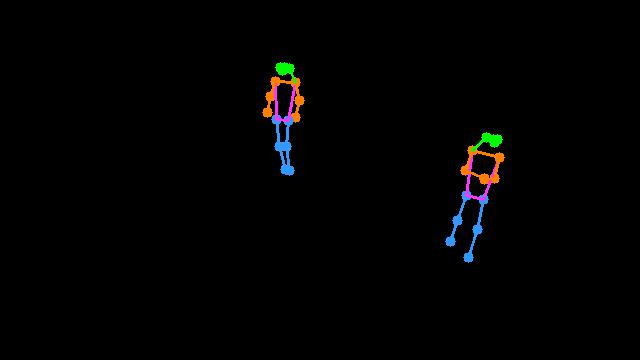normal: (419, 102, 535, 278), (244, 41, 326, 199)
